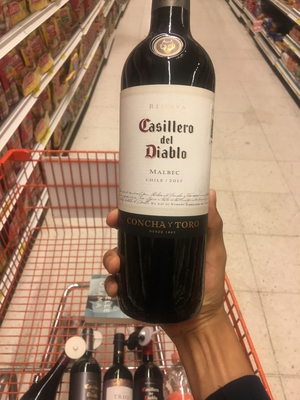casillero del diablo malbec: (112, 6, 229, 334)
